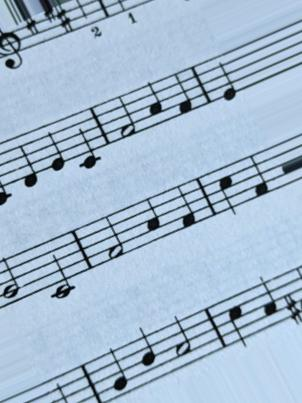note: (74, 110, 105, 174), (135, 321, 162, 390), (225, 296, 253, 353), (16, 130, 41, 193), (106, 342, 132, 398), (216, 167, 244, 219), (44, 118, 69, 176), (256, 272, 280, 332), (215, 51, 240, 103), (246, 151, 271, 200), (172, 68, 196, 118), (144, 79, 166, 129), (177, 181, 196, 233), (142, 197, 163, 244)
